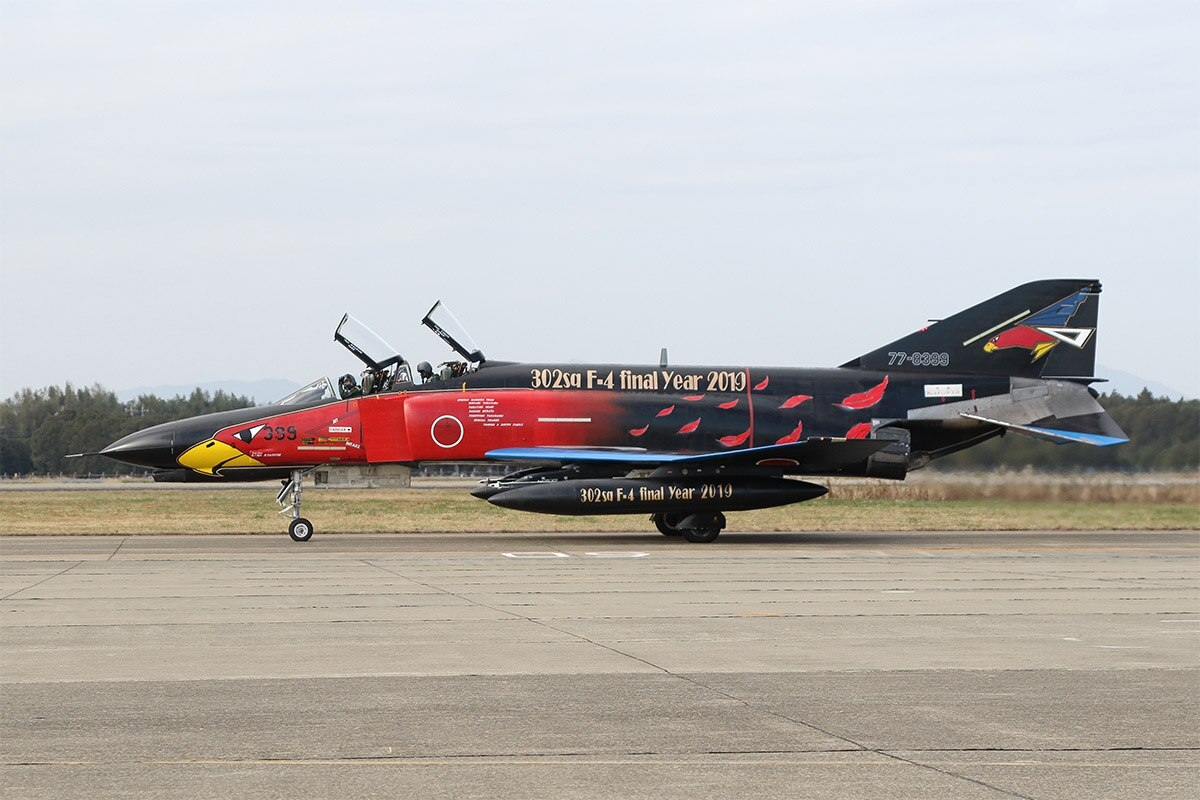F4: (62, 278, 1134, 543)
